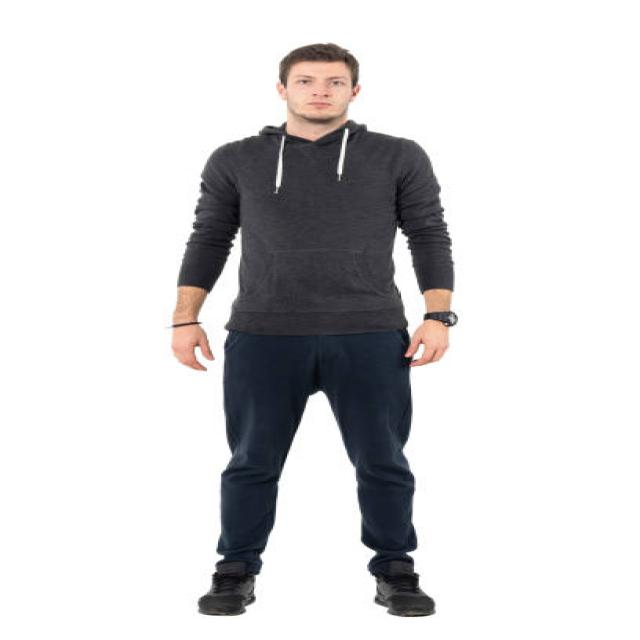Edited images: (140, 27, 498, 629)
